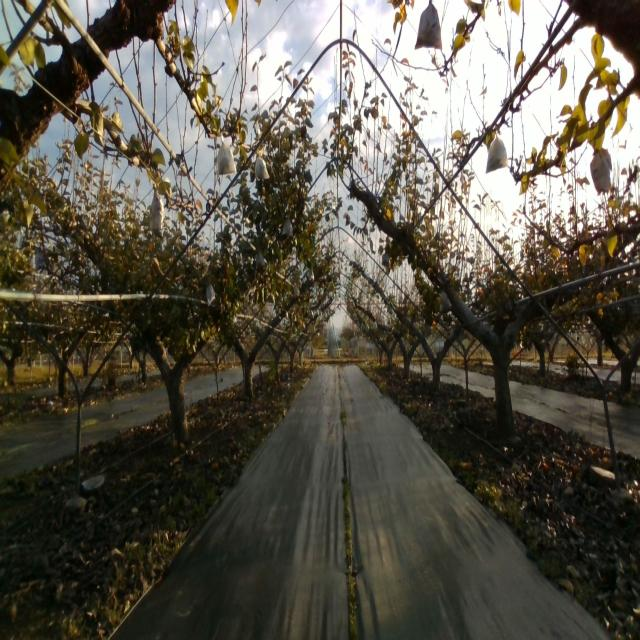pearbags: (415, 0, 442, 50), (590, 147, 612, 195), (148, 182, 164, 238), (486, 134, 508, 174), (218, 135, 235, 177), (254, 151, 270, 181), (439, 290, 452, 312), (282, 215, 294, 238), (206, 282, 217, 307), (256, 249, 266, 273)
